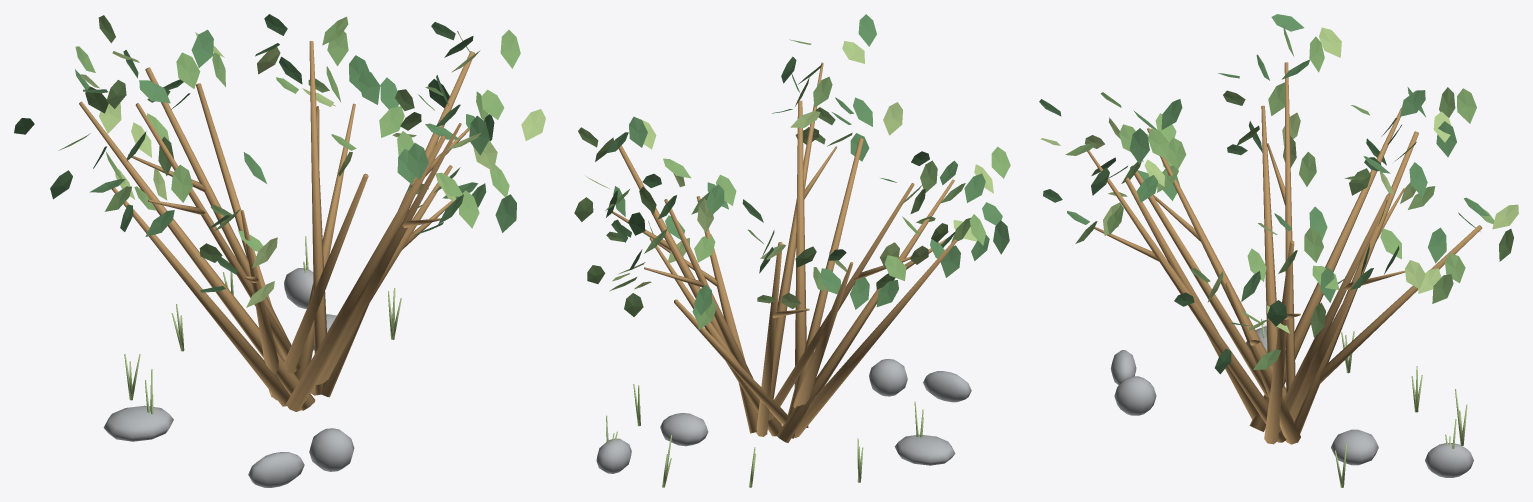
Rendered from forest_shrub_a.glb.
The picture shows the model from 3 angles, left to right: view 1: azimuth 30°, elevation 25°; view 2: azimuth 150°, elevation 25°; view 3: azimuth 270°, elevation 25°; orthographic projection. The views are drawn at different scales.
Parts seen in each view (by area): view 1: forest_shrub_a_stem_11, forest_shrub_a_stem_5, forest_shrub_a_stem_7, forest_shrub_a_stem_2, forest_shrub_a_stem_10, forest_shrub_a_stem_9, forest_shrub_ground_rock_0, forest_shrub_a_stem_4, forest_shrub_a_stem_6, forest_shrub_a_stem_1, forest_shrub_ground_rock_1, forest_shrub_ground_rock_3 (+9 smaller); view 2: forest_shrub_a_stem_8, forest_shrub_a_stem_7, forest_shrub_a_stem_11, forest_shrub_a_stem_10, forest_shrub_a_stem_9, forest_shrub_a_stem_6, forest_shrub_a_stem_4, forest_shrub_ground_rock_0, forest_shrub_a_stem_5, forest_shrub_a_stem_3, forest_shrub_a_stem_12, forest_shrub_ground_rock_2 (+6 smaller); view 3: forest_shrub_a_stem_10, forest_shrub_a_stem_5, forest_shrub_a_stem_4, forest_shrub_a_stem_9, forest_shrub_a_stem_7, forest_shrub_a_stem_6, forest_shrub_a_stem_2, forest_shrub_a_stem_0, forest_shrub_a_stem_11, forest_shrub_a_stem_3, forest_shrub_a_stem_8, forest_shrub_a_stem_12 (+5 smaller).
Boxes of the visible parts, x1,y1,x2,y2 form: forest_shrub_a_stem_11: (286,135,445,411); forest_shrub_a_stem_5: (79,101,315,410); forest_shrub_a_stem_7: (111,187,290,406); forest_shrub_a_stem_2: (309,41,326,394); forest_shrub_a_stem_10: (310,123,461,395); forest_shrub_a_stem_9: (272,173,368,400); forest_shrub_ground_rock_0: (103,405,173,441); forest_shrub_a_stem_4: (145,67,291,345); forest_shrub_a_stem_6: (135,103,301,371); forest_shrub_a_stem_1: (294,103,355,379); forest_shrub_ground_rock_1: (309,428,354,471); forest_shrub_ground_rock_3: (248,452,304,487); forest_shrub_a_stem_8: (776,179,954,442); forest_shrub_a_stem_7: (794,239,957,437); forest_shrub_a_stem_11: (794,100,808,427); forest_shrub_a_stem_10: (770,62,823,399); forest_shrub_a_stem_9: (787,138,863,438); forest_shrub_a_stem_6: (768,183,914,420); forest_shrub_a_stem_4: (756,242,782,436); forest_shrub_ground_rock_0: (894,434,955,465); forest_shrub_a_stem_5: (793,262,853,408); forest_shrub_a_stem_3: (674,299,788,425); forest_shrub_a_stem_12: (696,196,758,433); forest_shrub_ground_rock_2: (660,413,708,446); forest_shrub_a_stem_10: (1087,150,1286,442); forest_shrub_a_stem_5: (1249,107,1401,431); forest_shrub_a_stem_4: (1295,131,1418,433); forest_shrub_a_stem_9: (1130,165,1268,397); forest_shrub_a_stem_7: (1261,105,1278,364); forest_shrub_a_stem_6: (1284,62,1295,423); forest_shrub_a_stem_2: (1279,194,1389,432); forest_shrub_a_stem_0: (1264,240,1294,444); forest_shrub_a_stem_11: (1124,177,1258,419); forest_shrub_a_stem_3: (1319,225,1482,383); forest_shrub_a_stem_8: (1147,128,1286,399); forest_shrub_a_stem_12: (1225,283,1300,444).
Size of the model in its own units: 0.9876 by 0.7349 by 0.9144.
